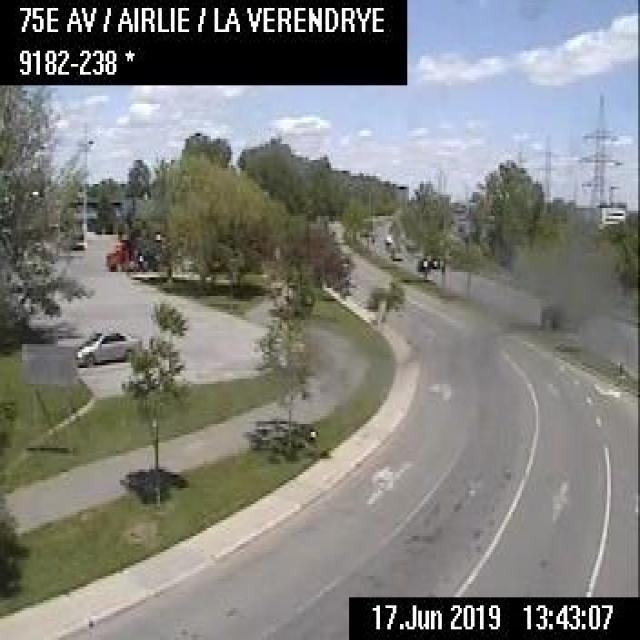vehicle: (73, 326, 141, 366), (389, 246, 405, 260)
